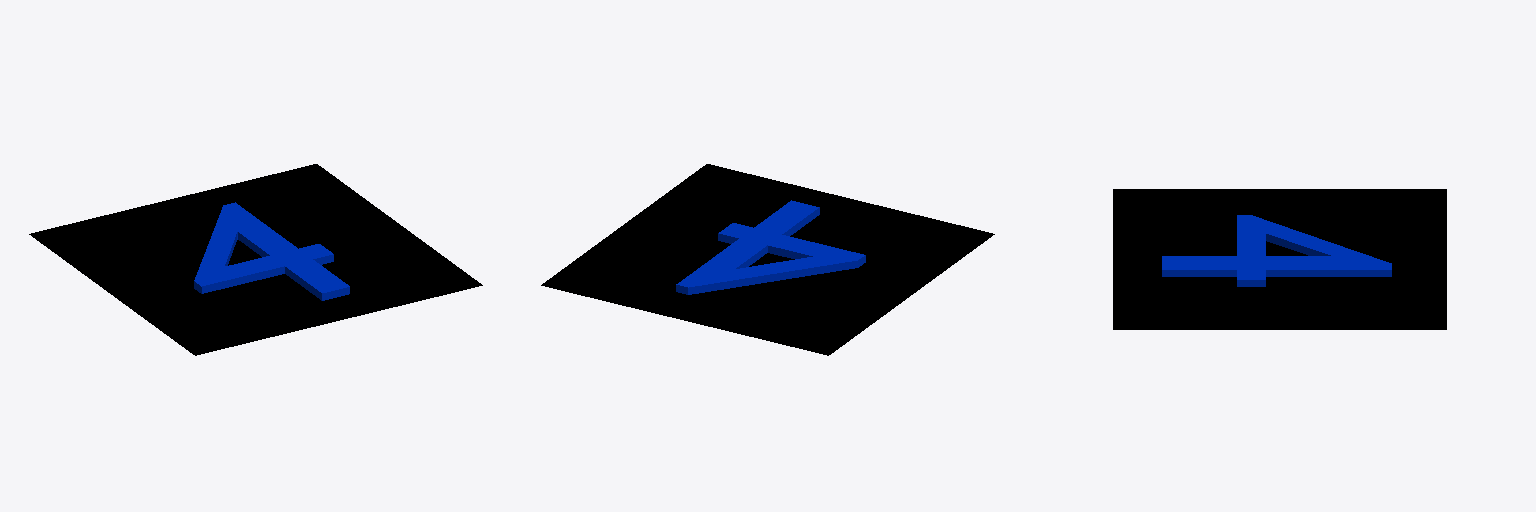
The model's file is TileFour.obj.
The picture shows the model from 3 angles: view 1: azimuth 30°, elevation 25°; view 2: azimuth 150°, elevation 25°; view 3: azimuth 270°, elevation 25°; orthographic projection.
Size of the model in its own units: 20 by 0.5 by 20.